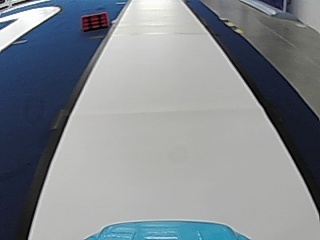bomb: (81, 10, 108, 30)
